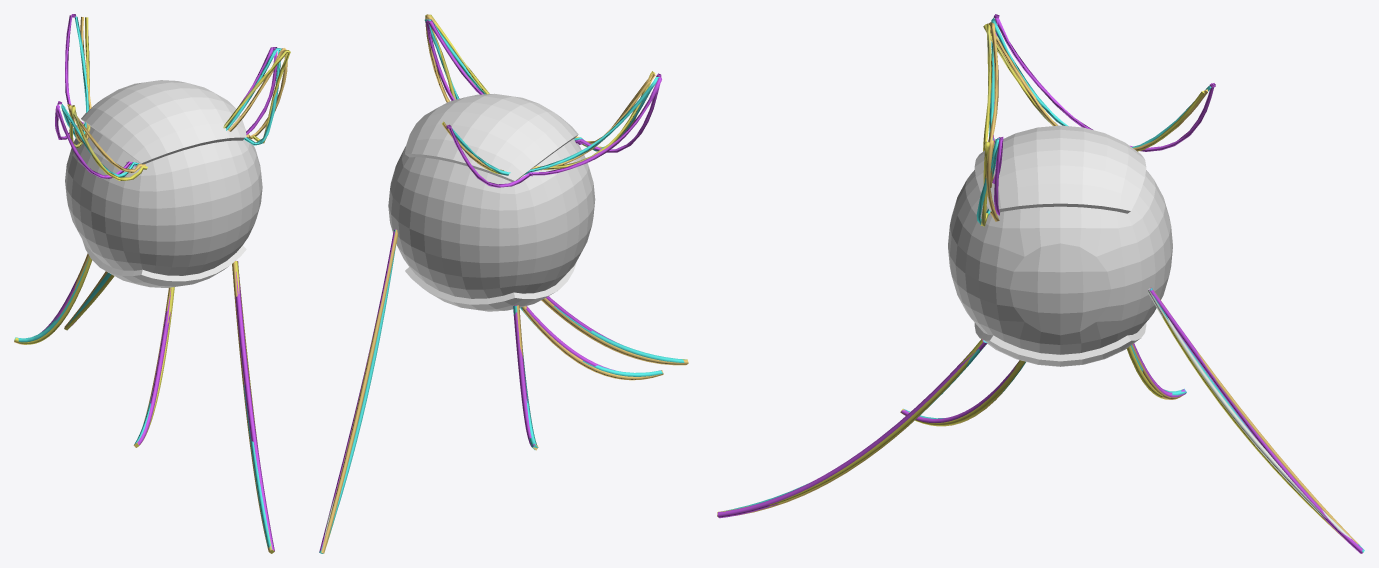
Rendered from Eye_Core.fbx.
The picture shows the model from 3 angles, left to right: view 1: azimuth 30°, elevation 25°; view 2: azimuth 150°, elevation 25°; view 3: azimuth 270°, elevation 25°; orthographic projection. The views are drawn at different scales.
Parts seen in each view (by area): view 1: Cube.005, GeoCables.004; view 2: Cube.005, GeoCables.004; view 3: Cube.005, GeoCables.004.
Boxes of the visible parts, box(x1,y1,x2,y2) form: Cube.005: box(65, 80, 262, 287); GeoCables.004: box(14, 14, 290, 553); Cube.005: box(388, 93, 595, 311); GeoCables.004: box(319, 14, 688, 553); Cube.005: box(948, 125, 1172, 366); GeoCables.004: box(717, 14, 1364, 553).
Size of the model in its own units: 1277 by 2062 by 2679.
